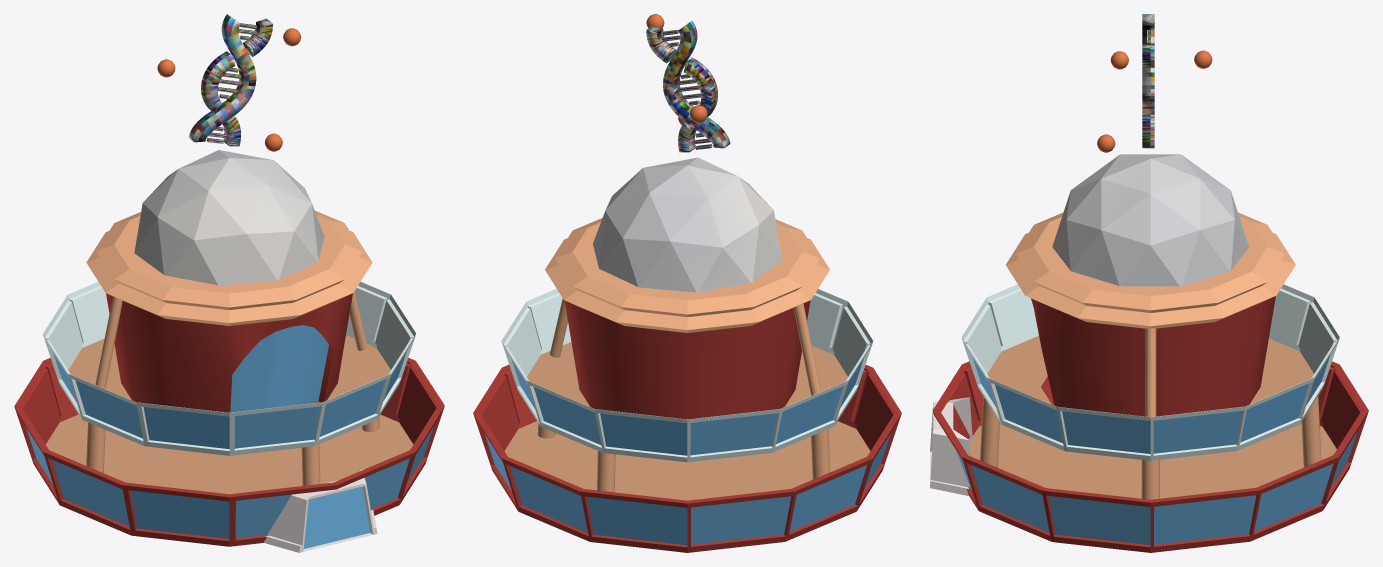
Rendered from MedicineBuilding.fbx.
3 renders of one model, left to right at view 1: azimuth 30°, elevation 25°; view 2: azimuth 150°, elevation 25°; view 3: azimuth 270°, elevation 25°, orthographic.
Parts seen in each view (by area): view 1: Cylinder, Cube.044; view 2: Cylinder, Cube.044; view 3: Cylinder, Cube.044.
Part boxes in pixels (bbox=[...]): Cylinder: bbox=[14, 14, 444, 552]; Cube.044: bbox=[157, 23, 301, 151]; Cylinder: bbox=[473, 21, 901, 552]; Cube.044: bbox=[646, 14, 712, 149]; Cylinder: bbox=[930, 14, 1368, 552]; Cube.044: bbox=[1097, 30, 1212, 152].
Bounding box in the file's own units: 3574 × 4109 × 3594.
Materials: 2 (2 with a texture image).
